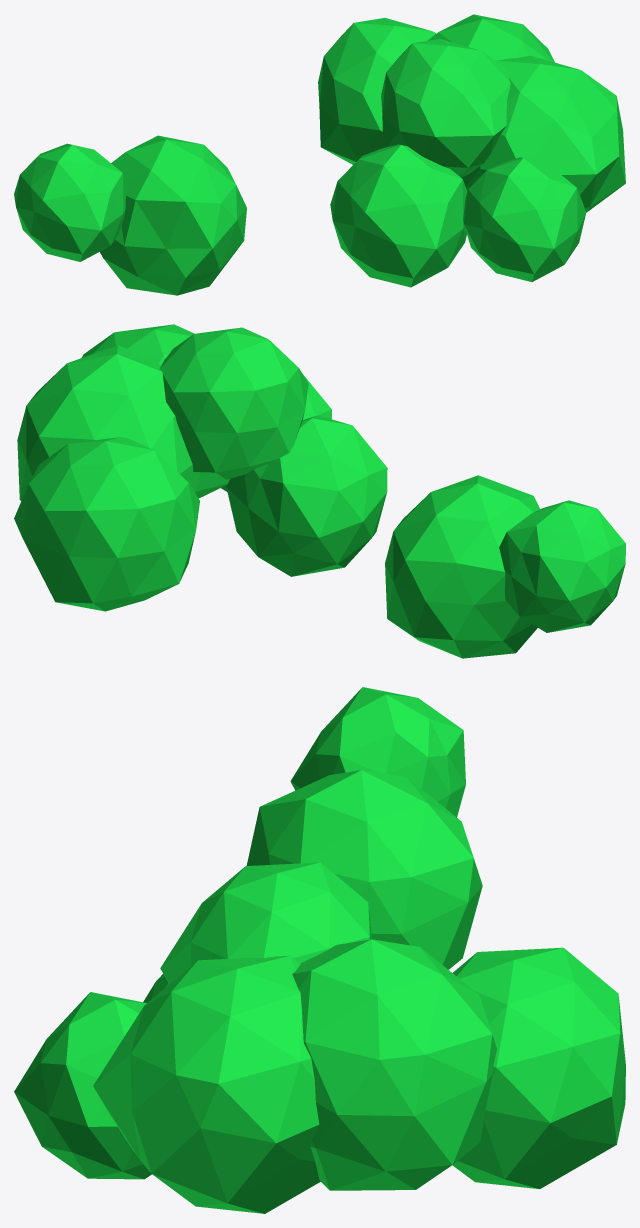
The model's file is calı.fbx.
3 views of the same model, one above another, from view 1: azimuth 30°, elevation 25°; view 2: azimuth 150°, elevation 25°; view 3: azimuth 270°, elevation 25° (orthographic). The views are drawn at different scales.
Parts seen in each view (by area): view 1: Icosphere.002; view 2: Icosphere.002; view 3: Icosphere.002.
Boxes of the visible parts, bbox=[...] form: Icosphere.002: bbox=[14, 14, 625, 295]; Icosphere.002: bbox=[14, 324, 625, 658]; Icosphere.002: bbox=[14, 687, 625, 1213].
Bounding box in the file's own units: 1542 × 560 × 1034.
